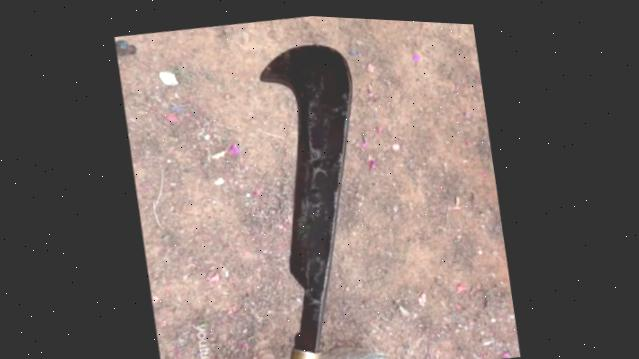long knife: (217, 28, 398, 359)
